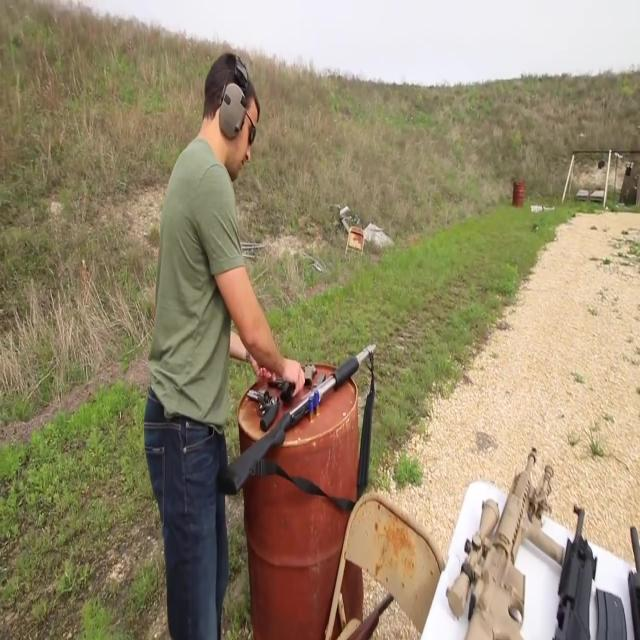Weapon: (441, 411, 640, 640), (206, 324, 391, 497), (314, 587, 417, 640)
